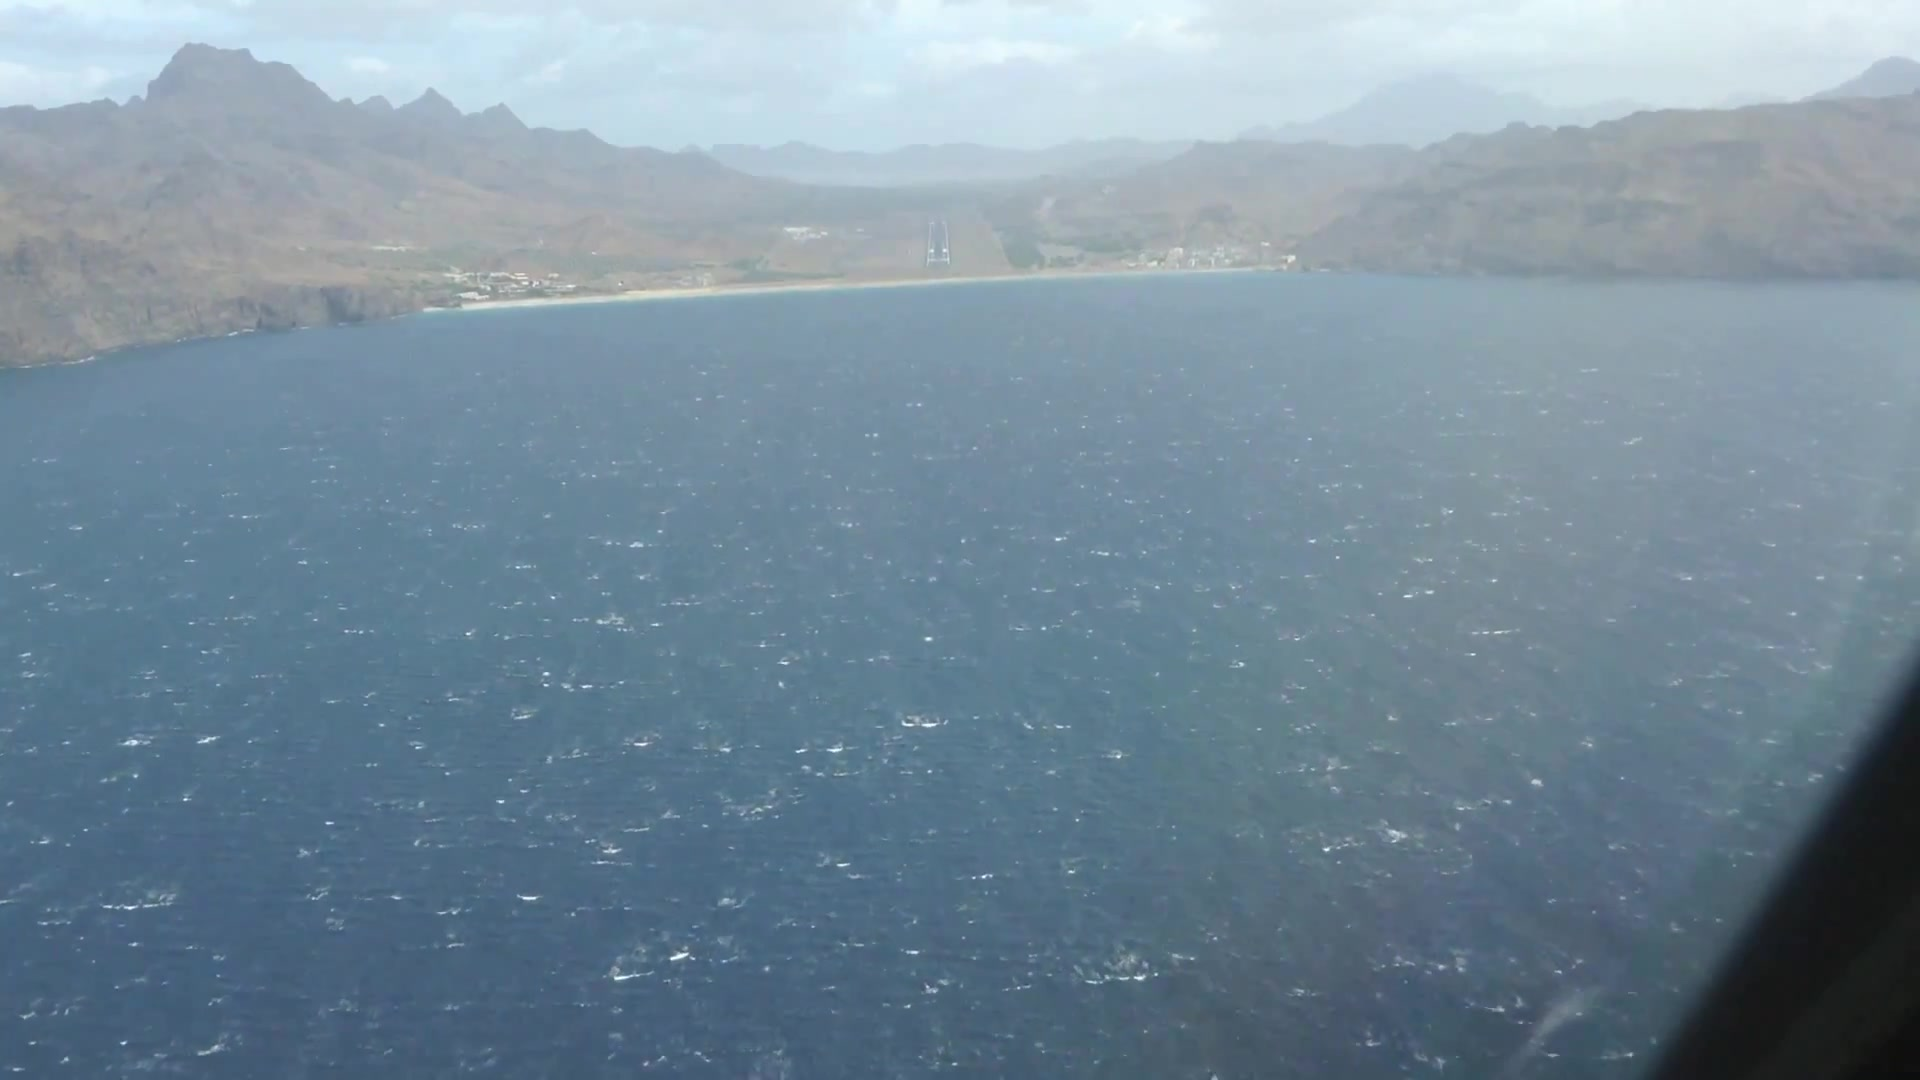runway: (924, 218, 951, 270)
